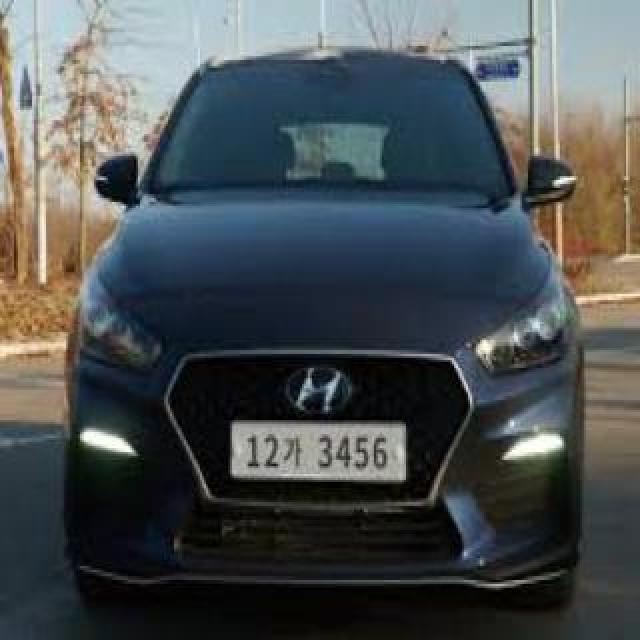car: (52, 36, 594, 606)
illegal_plate: (228, 416, 410, 493)
